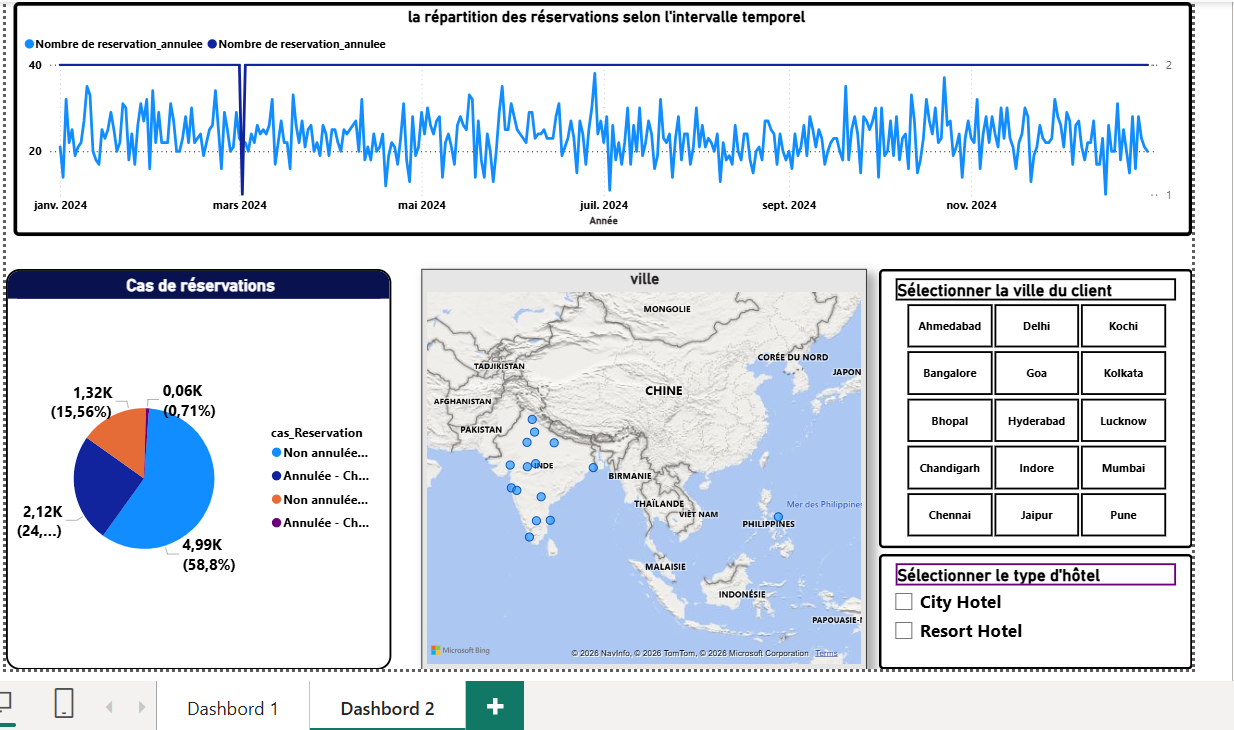

Layout of this report page (visuals, bound fields, positions):
{"tool":"powerbi","page":{"name":"Dashbord 2","canvas":[1280,720],"ordinal":1},"visuals":[{"type":"map","fields":{"Category":["Sheet1 (2).ville"]},"box":[448.5,288.2,480.9,432.3],"z":0},{"type":"slicer","fields":{"Values":["Sheet1 (2).ville"]},"box":[941.6,288.2,338.4,301.2],"z":1000},{"type":"slicer","fields":{"Values":["Sheet1 (2).type_hotel"]},"box":[942.4,595.9,338.4,124.7],"z":2000},{"type":"pieChart","title":"Cas de réservations","fields":{"Category":["Sheet1 (2).cas_Reservation"],"Y":["CountNonNull(Sheet1 (2).cas_Reservation)"]},"box":[0,288.2,416.1,432.3],"z":3000},{"type":"lineChart","title":"la répartition des réservations selon l''intervalle temporel","fields":{"Y":["CountNonNull(Sheet1 (2).reservation_annulee)"],"Y2":["Count(Sheet1 (2).reservation_annulee)"],"Category":["Sheet1 (2).date_arrivee.Variation.Hiérarchie de dates.Année","Sheet1 (2).date_arrivee.Variation.Hiérarchie de dates.Trimestre","Sheet1 (2).date_arrivee.Variation.Hiérarchie de dates.Mois","Sheet1 (2).date_arrivee.Variation.Hiérarchie de dates.Jour"]},"box":[8.1,0,1272.7,252.6],"z":4000}]}

Visuals, with their boxes in screenshot pixels (x1, y1, x2, y2):
map - Sheet1 (2).ville: <box>421,264,862,661</box>
slicer - Sheet1 (2).ville: <box>873,264,1183,540</box>
slicer - Sheet1 (2).type_hotel: <box>874,546,1184,661</box>
"Cas de réservations" pieChart: <box>10,264,391,661</box>
"la répartition des réservations selon l''intervalle temporel" lineChart: <box>17,0,1184,232</box>
